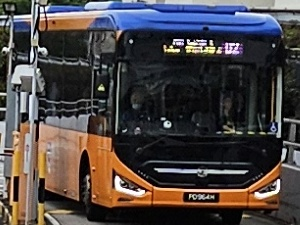bus: (223, 41, 241, 56)
